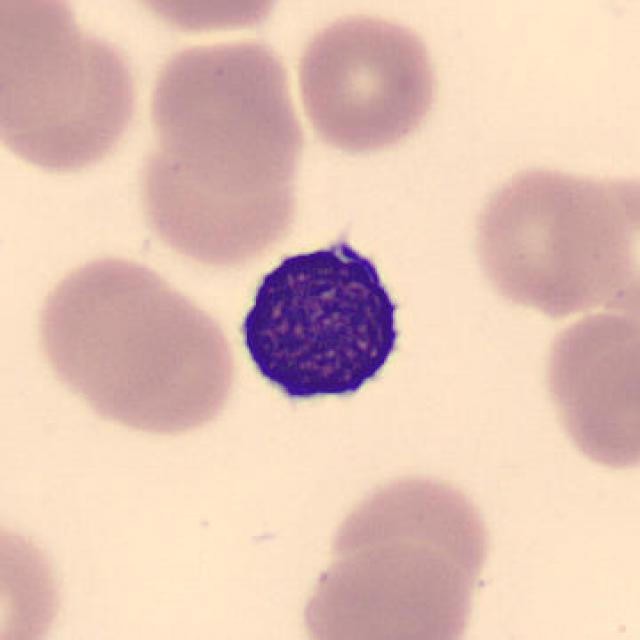Lymphocyte: (224, 219, 421, 425)
RBC: (27, 249, 240, 439), (142, 30, 311, 194), (464, 159, 635, 319), (133, 113, 306, 270), (0, 5, 148, 182), (323, 467, 498, 610), (290, 7, 444, 159), (297, 537, 482, 640), (535, 301, 640, 478), (0, 506, 71, 640), (101, 0, 297, 39)
